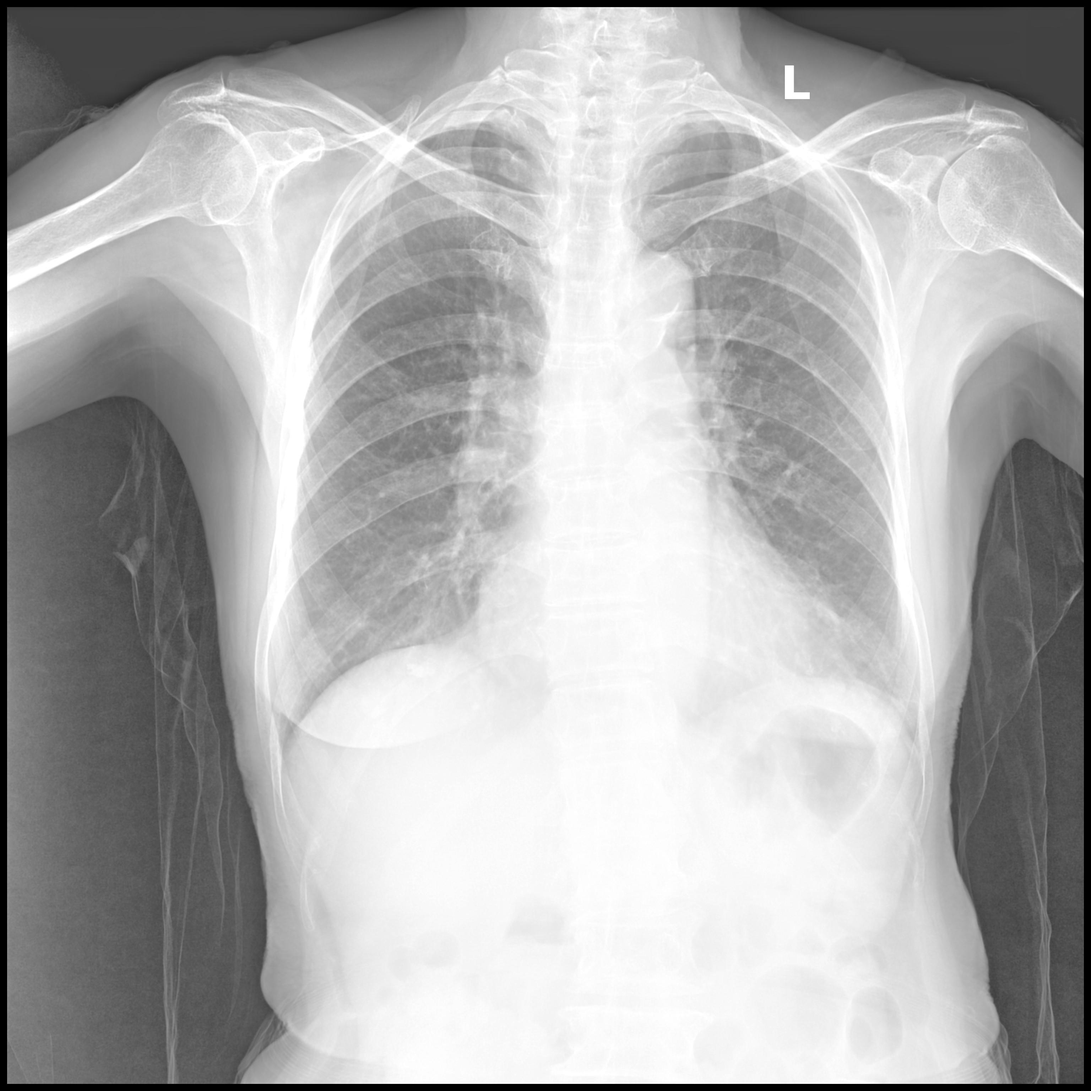Aortic enlargement: (600, 251, 699, 365)
Cardiomegaly: (477, 569, 895, 768)
Pleural thickening: (416, 101, 548, 139), (650, 103, 761, 132)
